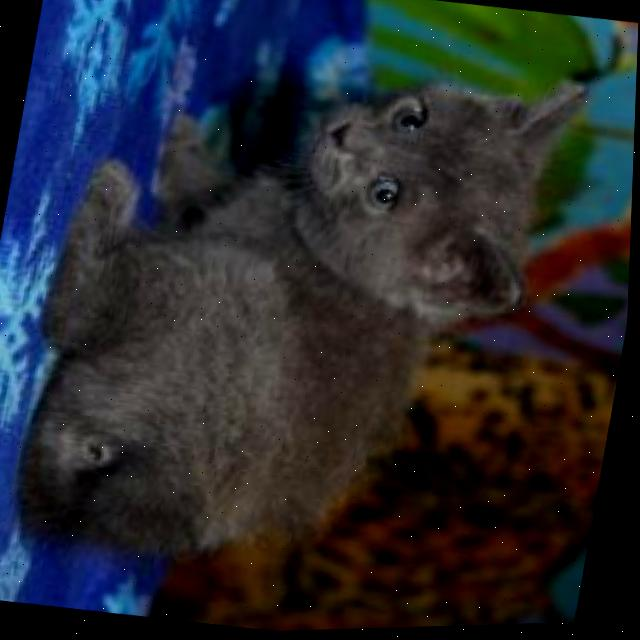American Bobtail: (1, 15, 597, 623)
